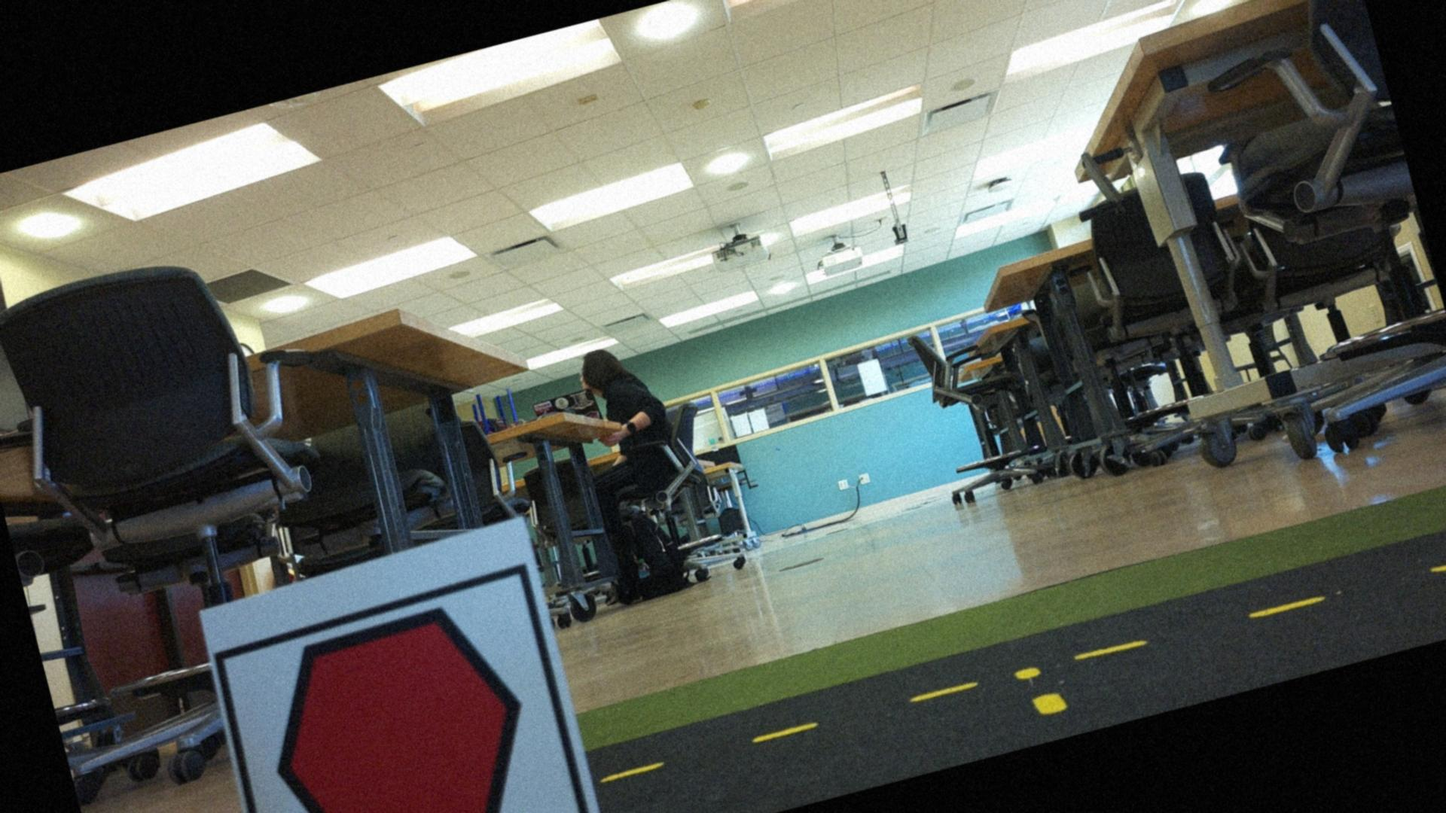stop: (234, 580, 568, 812)
yellowline: (606, 539, 1445, 788), (1008, 656, 1070, 726)
